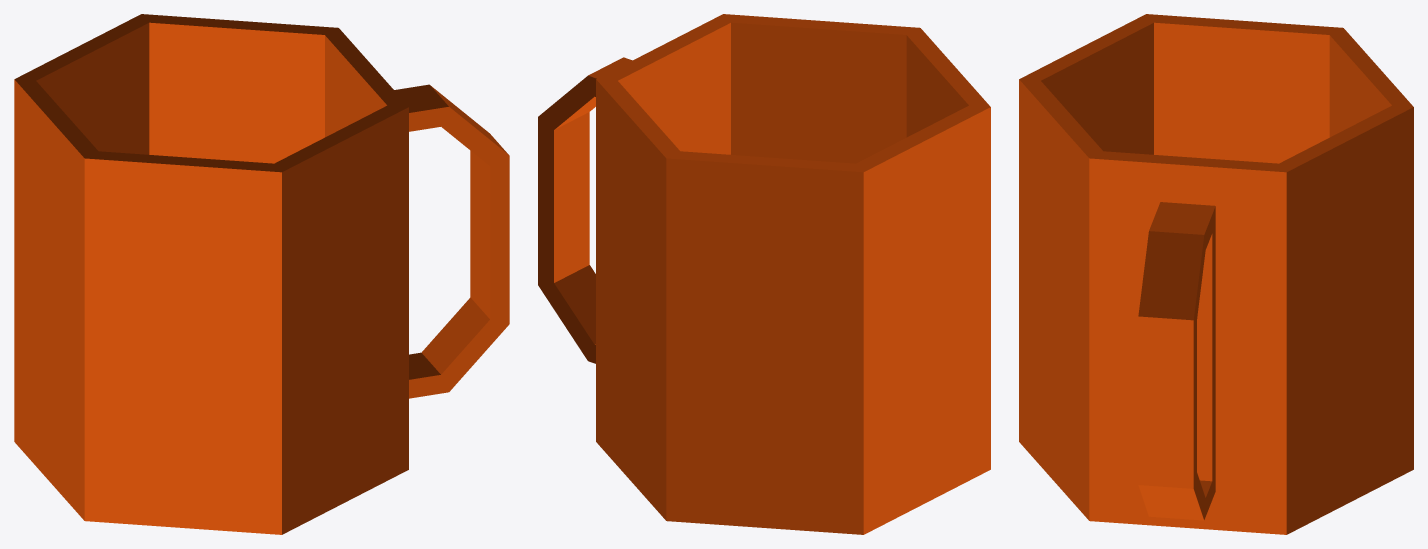
File: Mug 4.fbx
3 renders of one model, left to right at view 1: azimuth 30°, elevation 25°; view 2: azimuth 150°, elevation 25°; view 3: azimuth 270°, elevation 25°, orthographic.
Parts seen in each view (by area): view 1: Mug; view 2: Mug; view 3: Mug.
Part boxes in pixels (left/top/right/bottom): Mug: left=14, top=14, right=509, bottom=534; Mug: left=538, top=14, right=990, bottom=534; Mug: left=1019, top=14, right=1413, bottom=534.
Bounding box in the file's own units: 0.1712 × 0.1735 × 0.2148.
